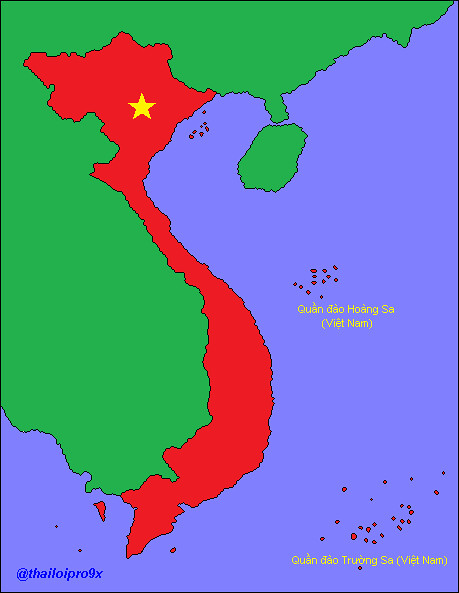Island: (292, 467, 448, 572), (287, 257, 396, 337)
